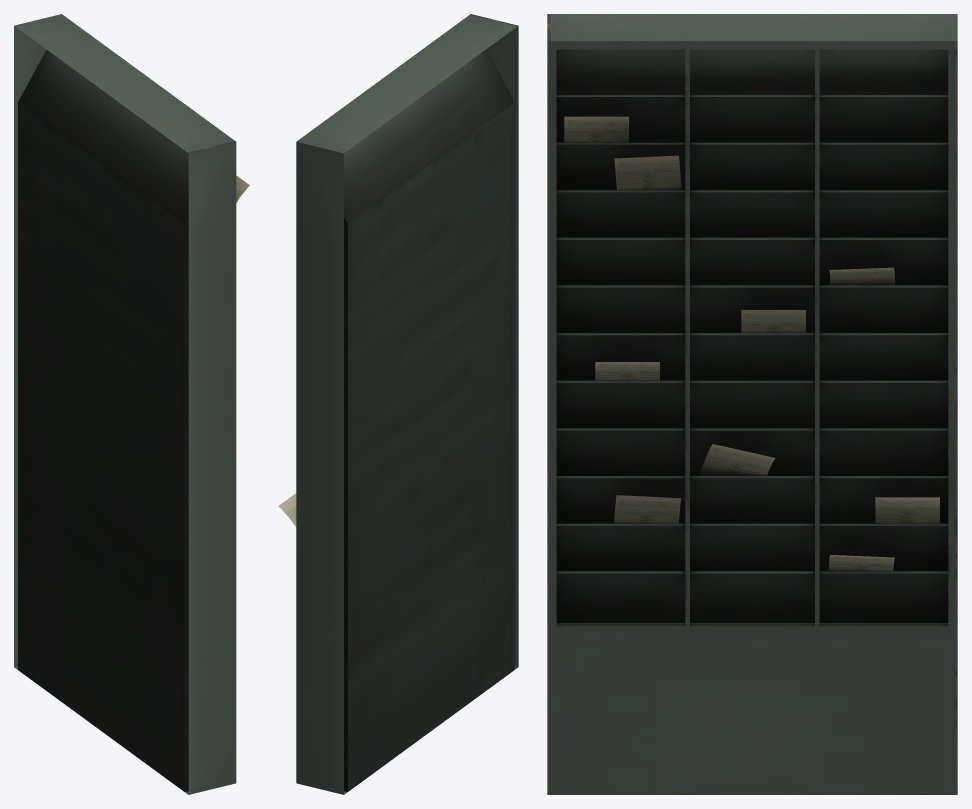
3 renders of one model, left to right at view 1: azimuth 30°, elevation 25°; view 2: azimuth 150°, elevation 25°; view 3: azimuth 270°, elevation 25°, orthographic. The views are drawn at different scales.
Visible parts, largest first — view 1: body0_model0_lod0_mesh0; view 2: body0_model0_lod0_mesh0; view 3: body0_model0_lod0_mesh0.
Boxes of the visible parts, x1,y1,x2,y2 form: body0_model0_lod0_mesh0: (14,14,249,794); body0_model0_lod0_mesh0: (278,14,518,794); body0_model0_lod0_mesh0: (547,14,957,794).
Bounding box in the file's own units: 12.23 × 103 × 50.69.
Materials: 1 (1 with a texture image).
